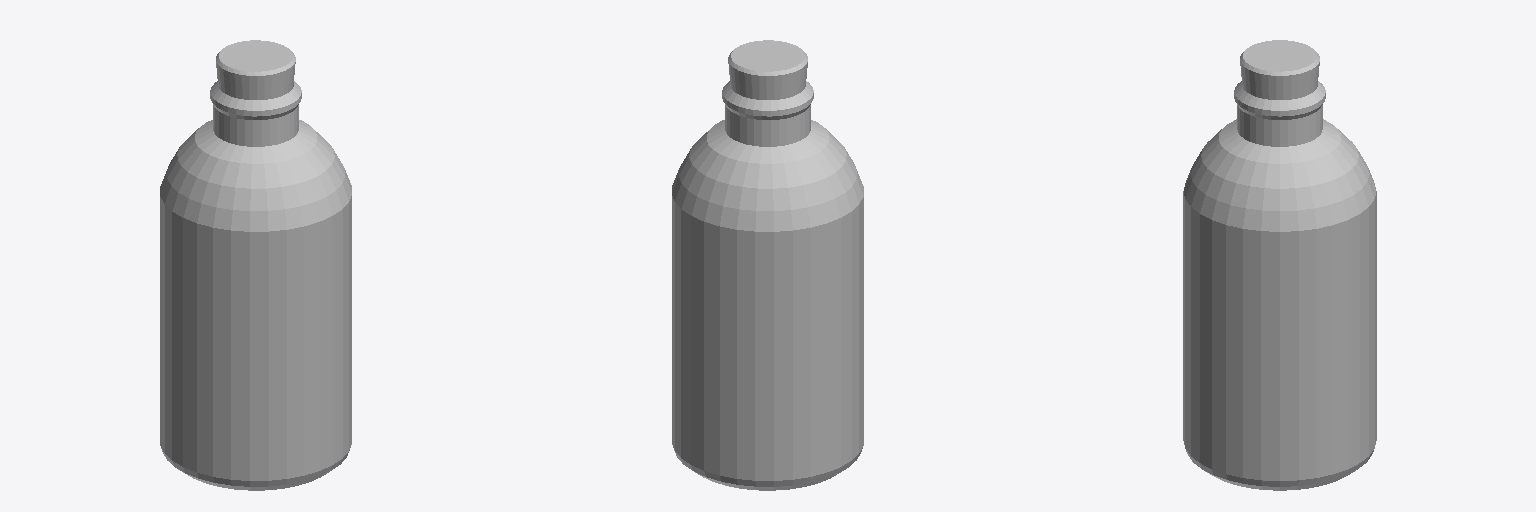
The model's file is Bottle tight.obj.
3 views of the same model, side by side, from view 1: azimuth 30°, elevation 25°; view 2: azimuth 150°, elevation 25°; view 3: azimuth 270°, elevation 25° (orthographic).
Parts seen in each view (by area): view 1: Bottle_tight_Cylinder; view 2: Bottle_tight_Cylinder; view 3: Bottle_tight_Cylinder.
Part boxes in pixels (x1,y1,x2,y2): Bottle_tight_Cylinder: (160,40,351,490); Bottle_tight_Cylinder: (672,40,863,490); Bottle_tight_Cylinder: (1183,40,1376,490).
Bounding box in the file's own units: 0.9826 × 2.25 × 0.9826.